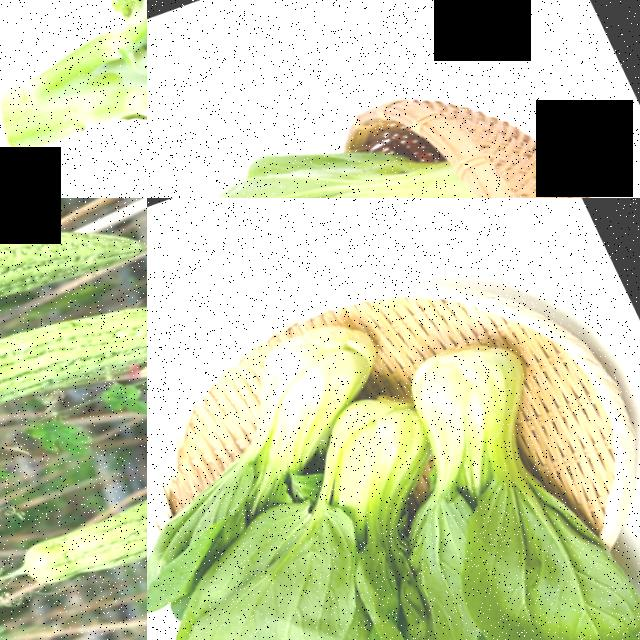bitter gourd: (0, 206, 147, 483), (1, 384, 147, 607), (0, 198, 147, 391)
bok choy: (391, 323, 640, 640), (156, 411, 480, 640), (147, 265, 374, 515), (147, 84, 485, 198)
broccoli: (0, 0, 147, 198)
